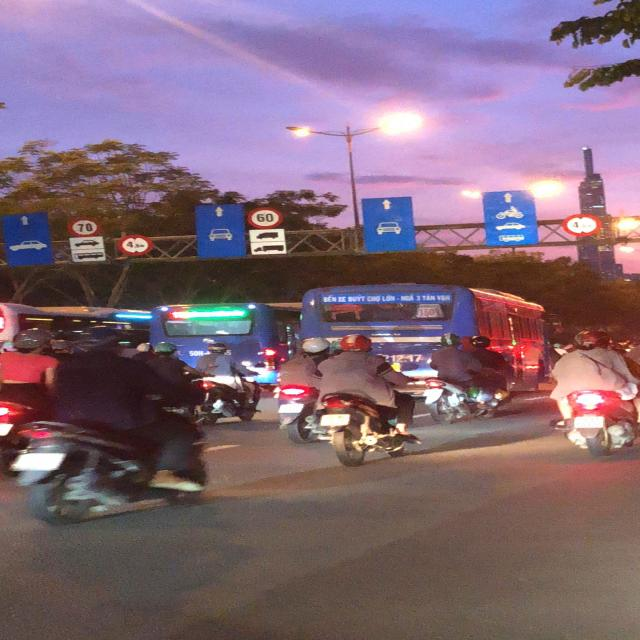Bien bao han che chieu cao: (561, 213, 604, 240), (116, 232, 156, 257)
Bien bao toc do toi da cho phep: (245, 204, 284, 230), (63, 216, 108, 238)
